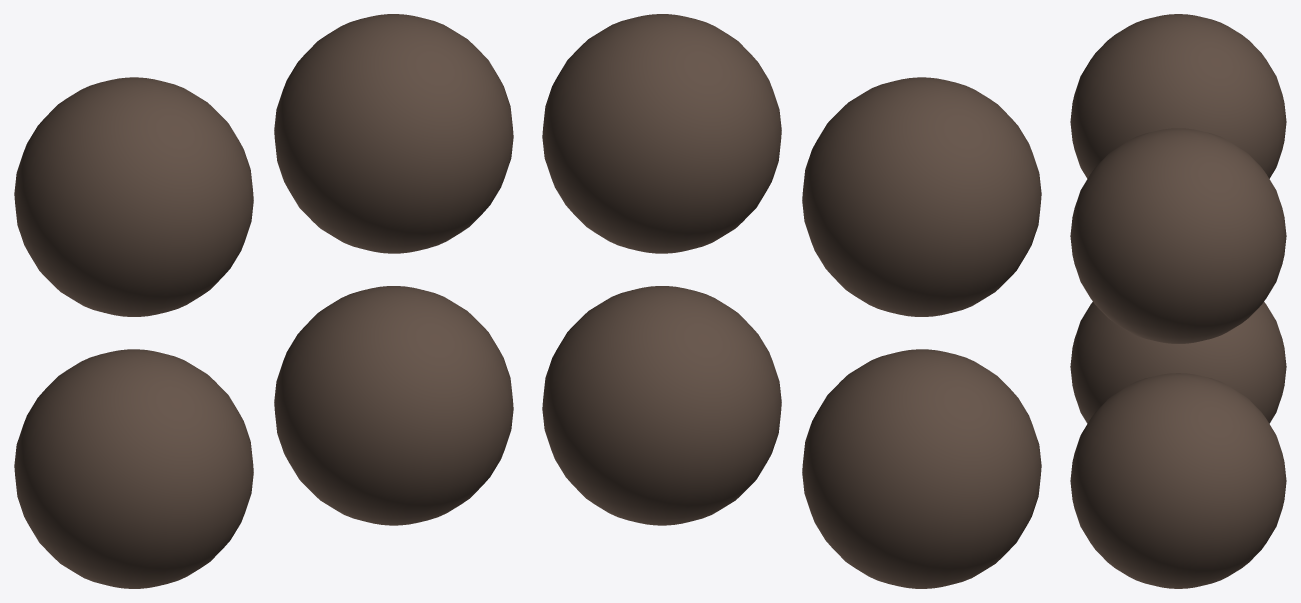
File: sheen.glb
3 views of the same model, side by side, from view 1: azimuth 30°, elevation 25°; view 2: azimuth 150°, elevation 25°; view 3: azimuth 270°, elevation 25° (orthographic). The views are drawn at different scales.
Visible parts, largest first — view 1: bare control, sheen textured UV1, sheen narrow, sheen soft; view 2: bare control, sheen textured UV1, sheen narrow, sheen soft; view 3: sheen narrow, sheen textured UV1, bare control, sheen soft.
Part boxes in pixels (x1=…): bare control: x1=14, y1=77, x2=253, y2=316; sheen textured UV1: x1=274, y1=286, x2=513, y2=525; sheen narrow: x1=274, y1=14, x2=513, y2=253; sheen soft: x1=14, y1=349, x2=253, y2=588; bare control: x1=802, y1=77, x2=1041, y2=316; sheen textured UV1: x1=542, y1=286, x2=781, y2=525; sheen narrow: x1=542, y1=14, x2=781, y2=253; sheen soft: x1=802, y1=349, x2=1041, y2=588; sheen narrow: x1=1070, y1=128, x2=1286, y2=343; sheen textured UV1: x1=1070, y1=373, x2=1286, y2=588; bare control: x1=1070, y1=14, x2=1286, y2=178; sheen soft: x1=1070, y1=302, x2=1286, y2=423.
Size of the model in its own units: 4.5 by 4.5 by 2.
